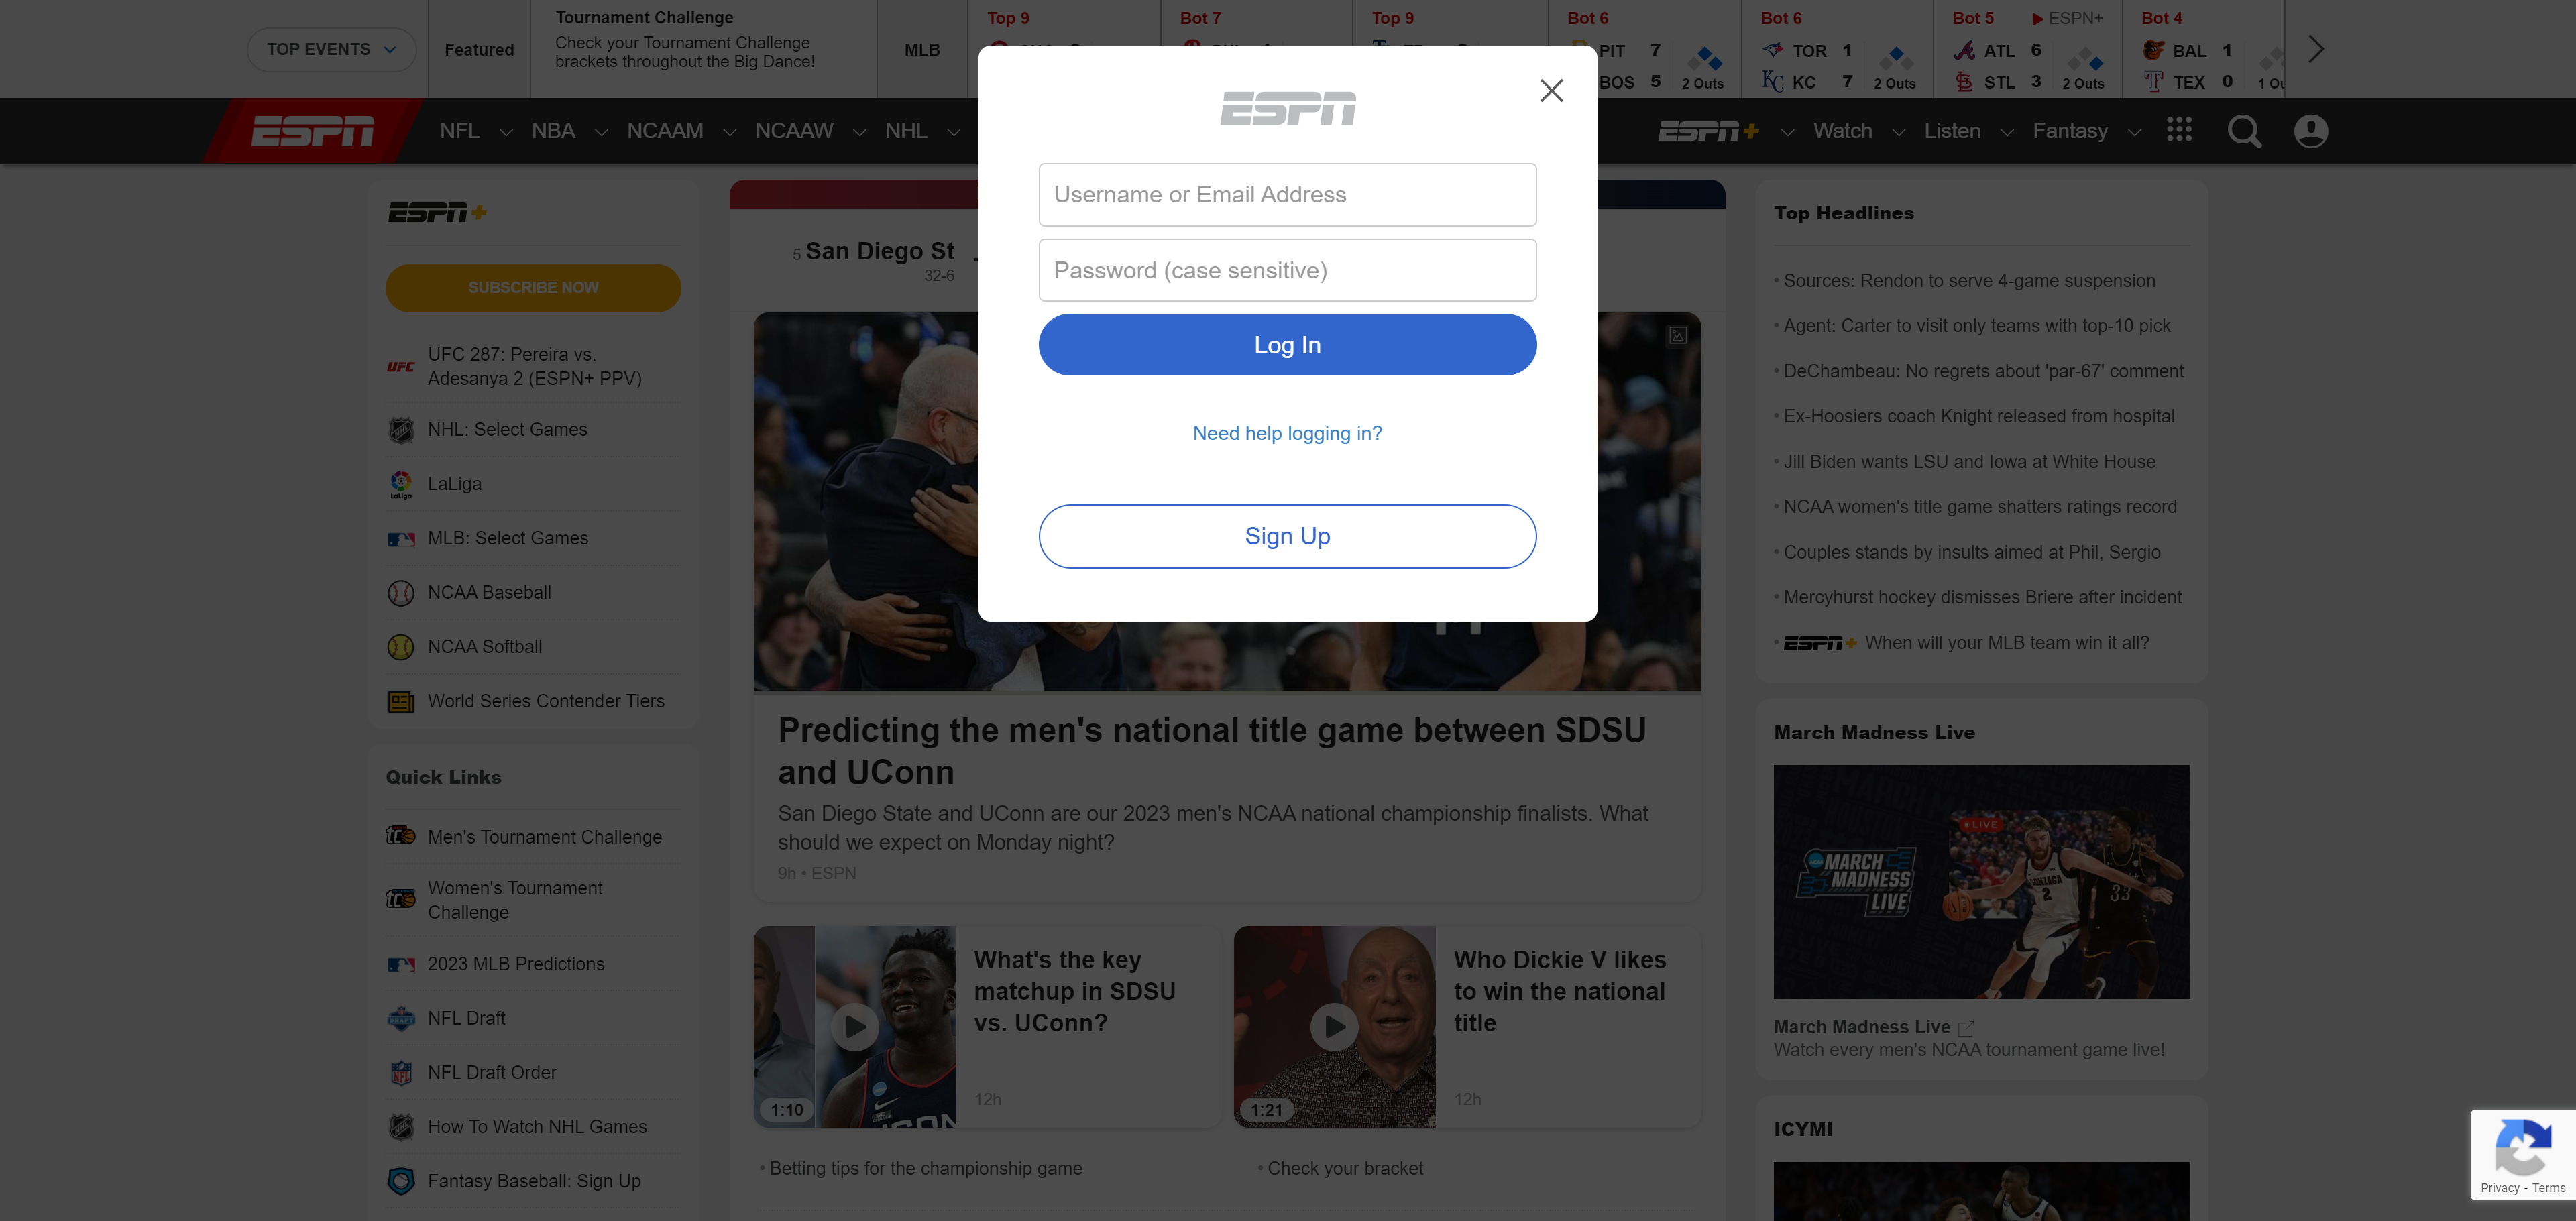login_button: (1038, 314, 1538, 375)
login_form: (1030, 153, 1549, 386)
